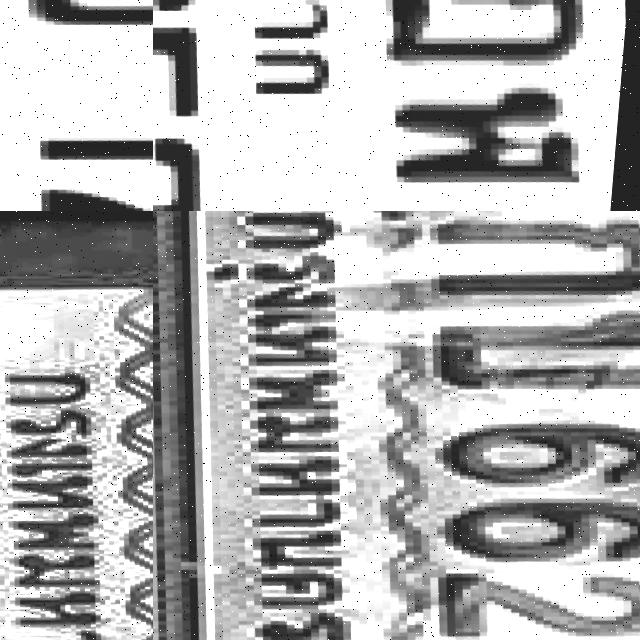license-plate: (153, 211, 640, 640), (153, 0, 640, 211), (0, 211, 153, 640), (0, 0, 153, 211)
